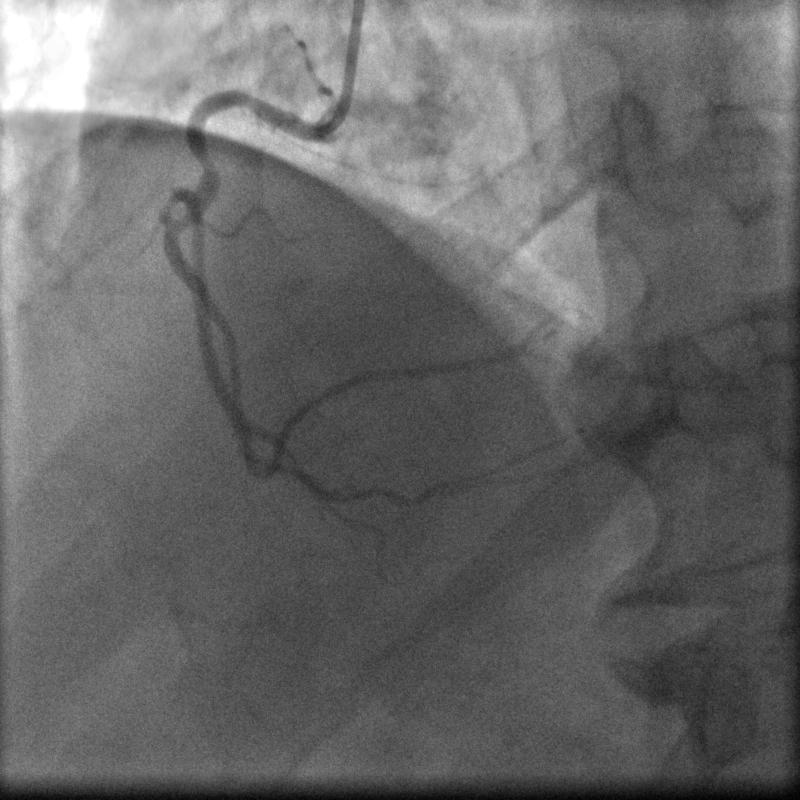Stenosis: (188, 147, 218, 178)
